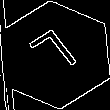L_SE: (25, 26, 85, 84)
